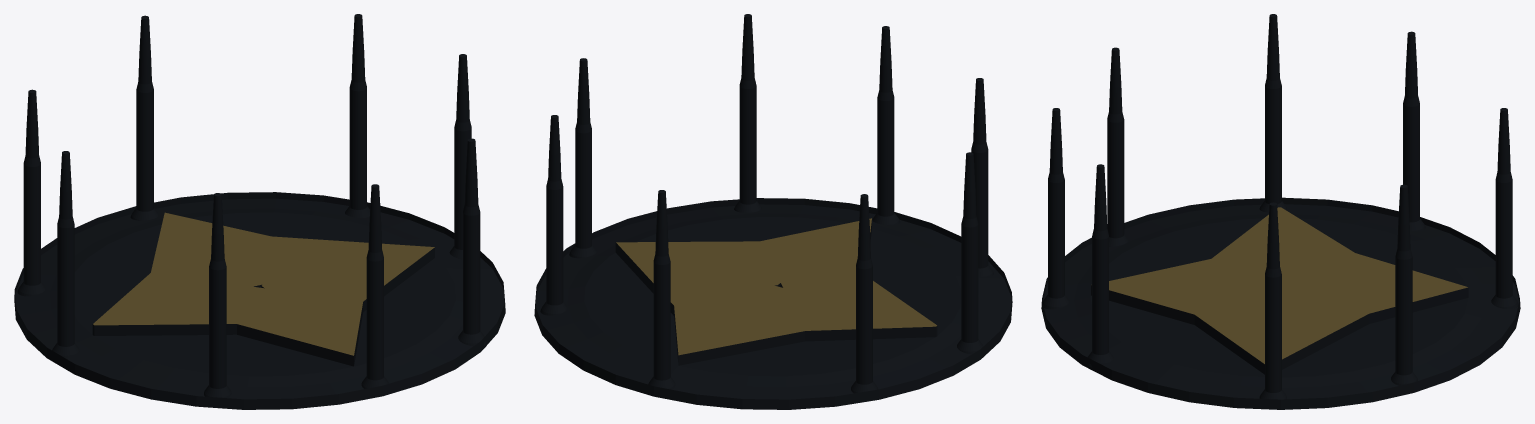
Rendered from star.fbx.
3 views of the same model, side by side, from view 1: azimuth 30°, elevation 25°; view 2: azimuth 150°, elevation 25°; view 3: azimuth 270°, elevation 25° (orthographic). The views are drawn at different scales.
Visible parts, largest first — view 1: Circle; view 2: Circle; view 3: Circle.
Part boxes in pixels (x1,y1,x2,y2): Circle: (14,14,505,409); Circle: (534,14,1012,409); Circle: (1041,14,1520,409).
Size of the model in its own units: 1483 by 680 by 1483.
